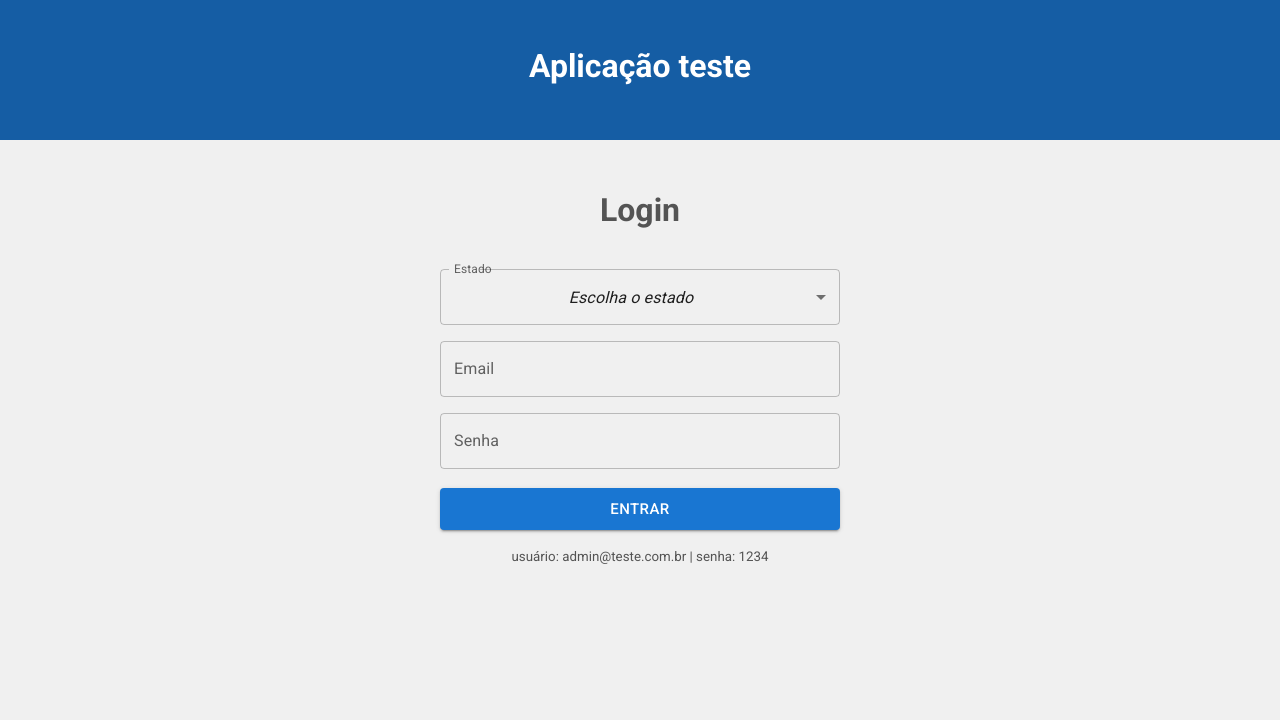
Test: Autenticação › Deve notificar formato de entrada inválido nos campos
# valida dados obrigatórios
Click the button with test id "submit". click: (640, 509)
box: [440, 488, 840, 530]
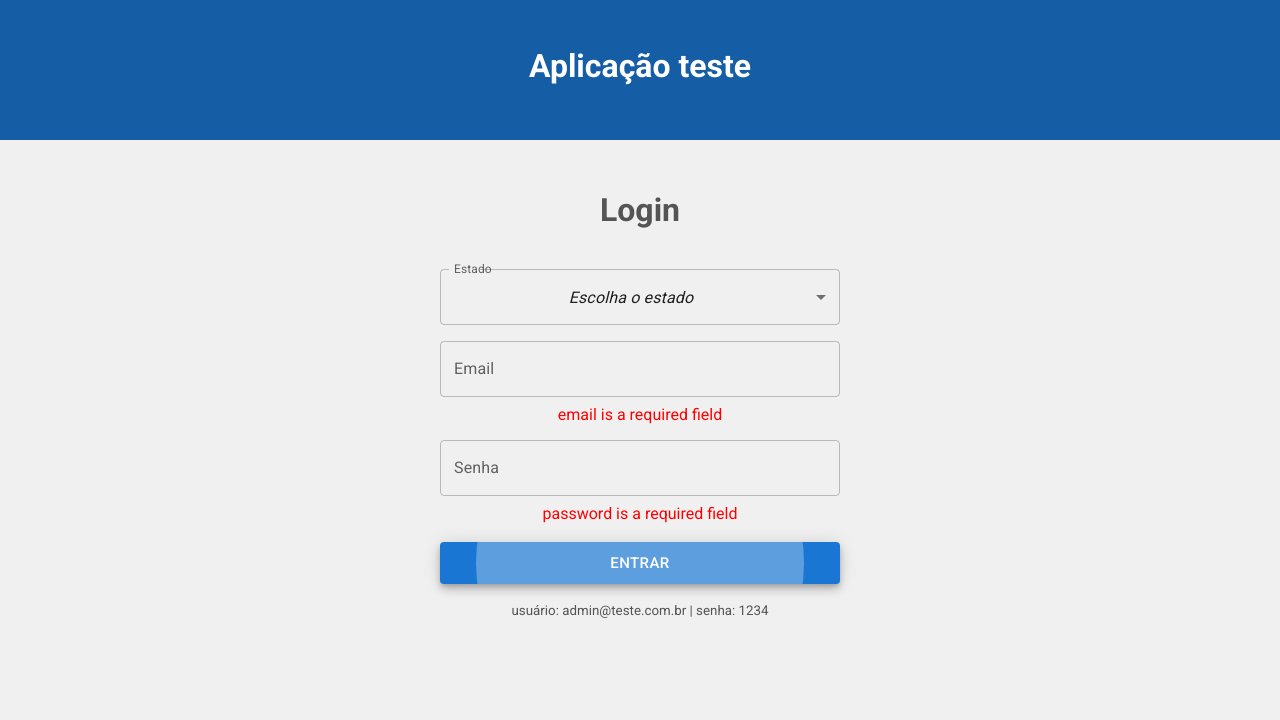
Expected: the text "email is a required field" is shown, [558, 405, 722, 424]
Expected: the text "password is a required field" is shown, [542, 504, 738, 523]
# valida formato do email
Type "email.com.br" into the element with test id "email". click: (640, 369)
box: [440, 341, 840, 397]
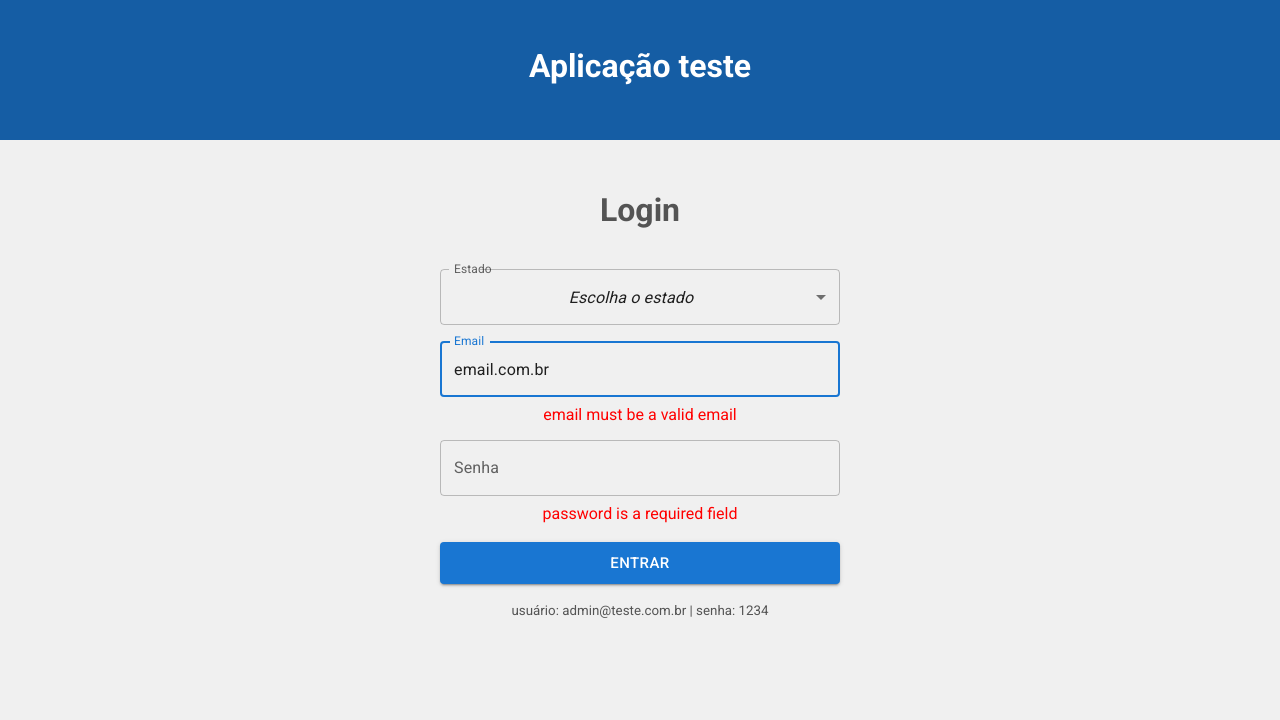
Expected: the text "email must be a valid email" is shown, [543, 405, 737, 424]
